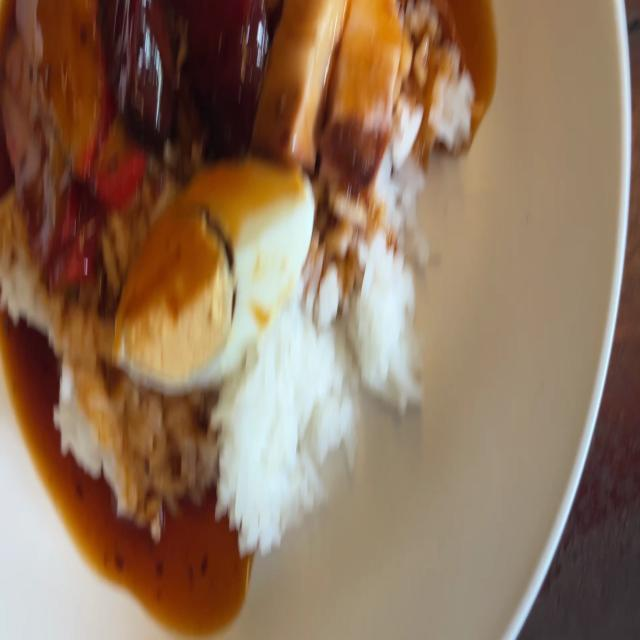red_pork_and_crispy_pork: (115, 154, 315, 384)
stir_fried_basil: (117, 0, 263, 156), (182, 0, 251, 141), (117, 0, 172, 152)
